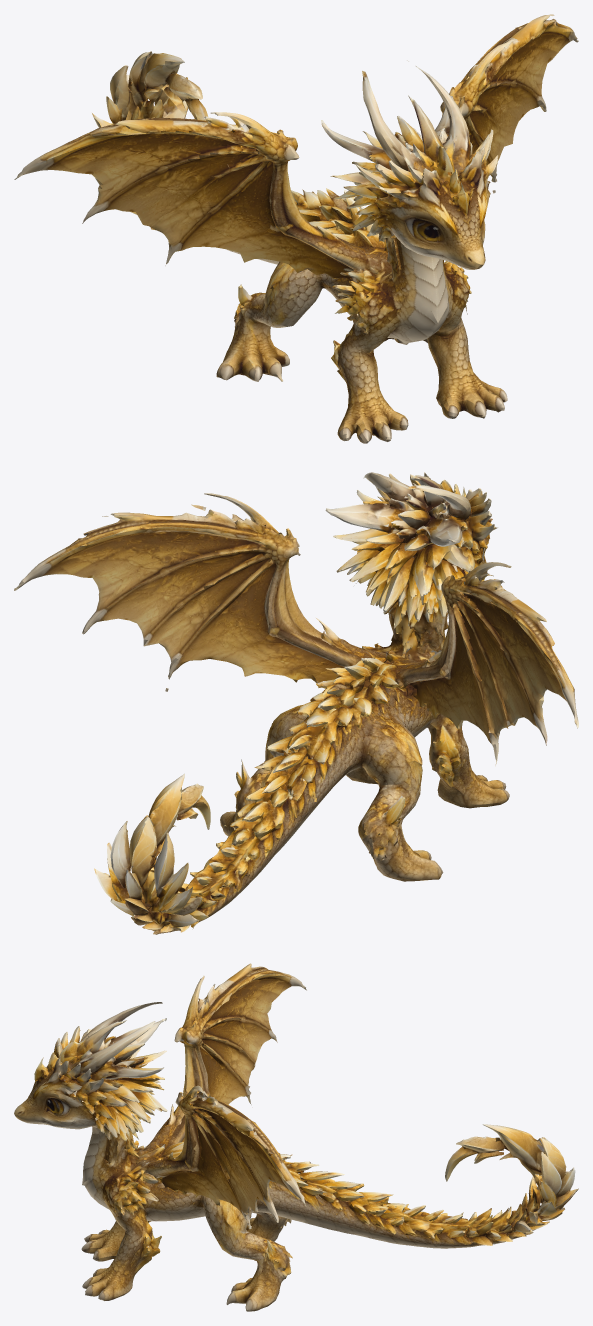
The model's file is sand_dragonet2.glb.
3 renders of one model, top to bottom at view 1: azimuth 30°, elevation 25°; view 2: azimuth 150°, elevation 25°; view 3: azimuth 270°, elevation 25°, orthographic. The views are drawn at different scales.
Visible parts, largest first — view 1: Mesh_0; view 2: Mesh_0; view 3: Mesh_0.
Part boxes in pixels (left/top/right/bottom): Mesh_0: left=14, top=14, right=578, bottom=443; Mesh_0: left=14, top=472, right=578, bottom=934; Mesh_0: left=14, top=963, right=578, bottom=1311.
Bounding box in the file's own units: 1.73 × 0.9699 × 1.89.
Materials: 1 (1 with a texture image).
